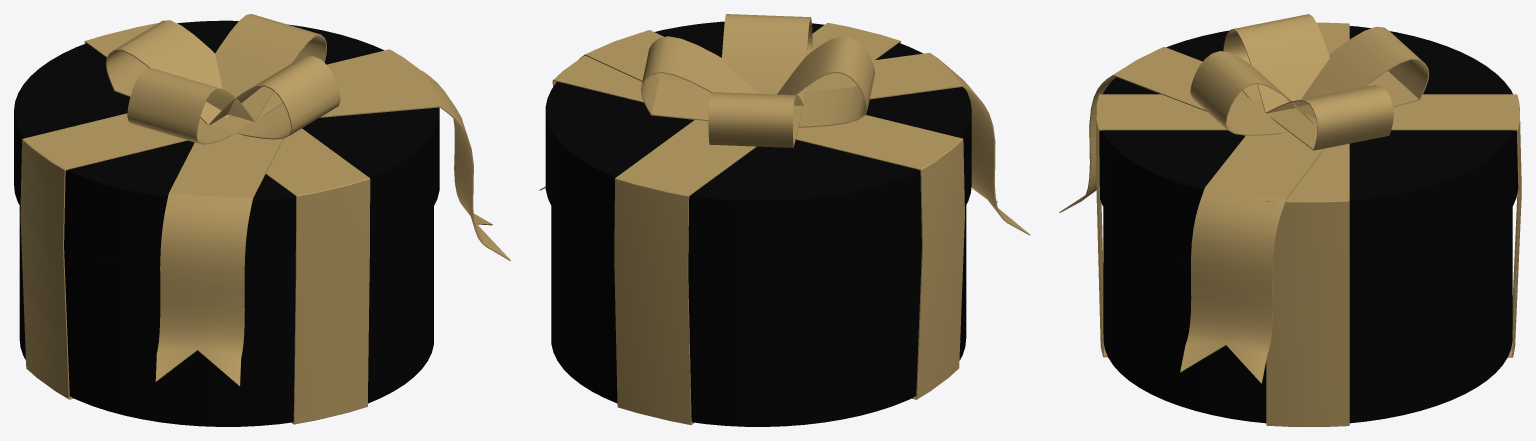
3 renders of one model, left to right at view 1: azimuth 30°, elevation 25°; view 2: azimuth 150°, elevation 25°; view 3: azimuth 270°, elevation 25°, orthographic.
Visible parts, largest first — view 1: ddd7c5ecd2bfa8e6a2df8bdac20dd01a27b25028 > > root > (×2); view 2: ddd7c5ecd2bfa8e6a2df8bdac20dd01a27b25028 > > root > (×2); view 3: ddd7c5ecd2bfa8e6a2df8bdac20dd01a27b25028 > > root > (×2).
Boxes of the visible parts, bbox=[...] form: ddd7c5ecd2bfa8e6a2df8bdac20dd01a27b25028 > > root > (×2): bbox=[14, 14, 510, 426]; ddd7c5ecd2bfa8e6a2df8bdac20dd01a27b25028 > > root > (×2): bbox=[539, 14, 1030, 426]; ddd7c5ecd2bfa8e6a2df8bdac20dd01a27b25028 > > root > (×2): bbox=[1059, 14, 1521, 426].
Size of the model in its own units: 0.3722 by 0.2396 by 0.3514.
